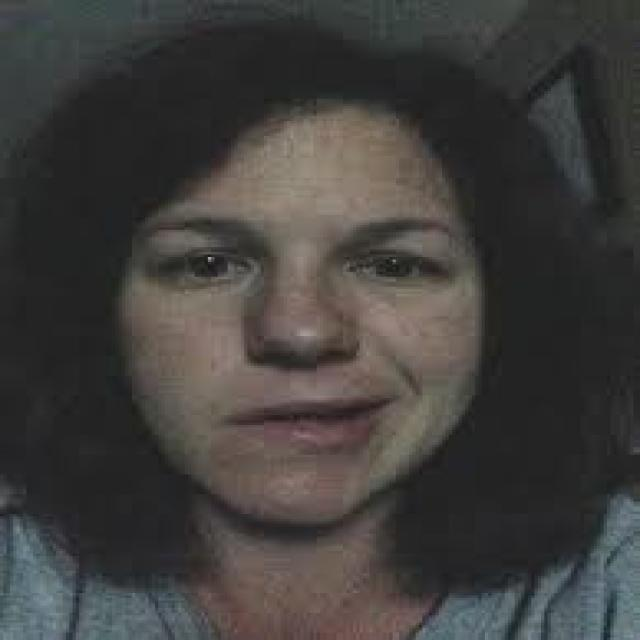stroke_face: (72, 62, 494, 539)
